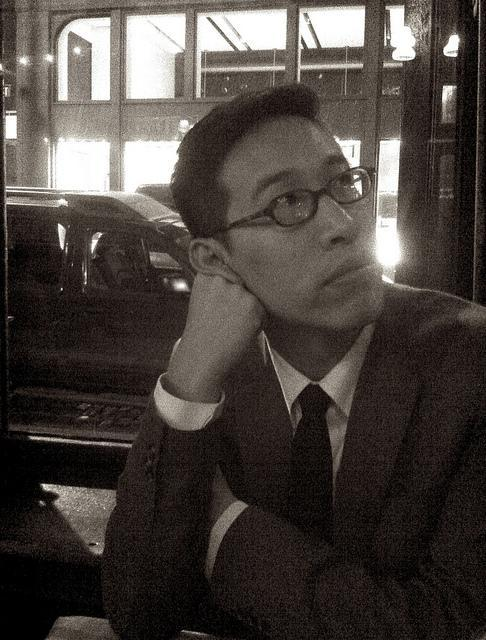car: (6, 183, 197, 499)
